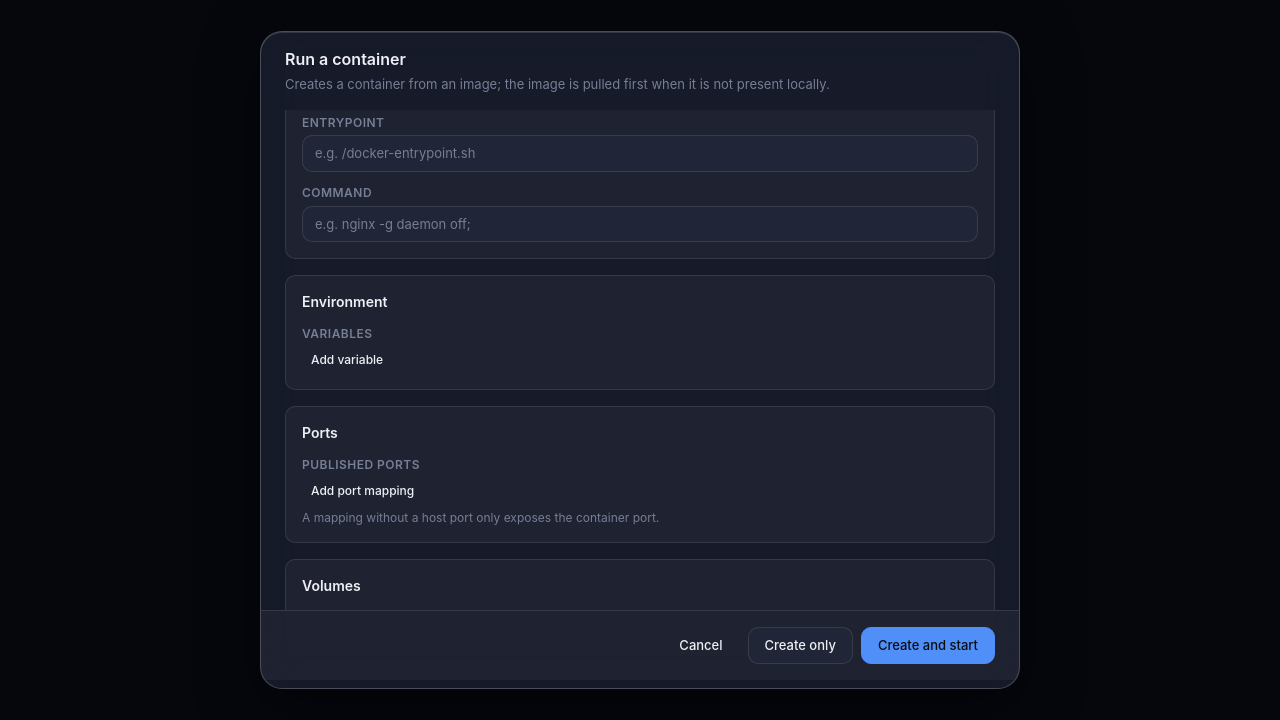
Test: ContainerCreateForm — the two key/value editors are told apart (containers/specs/container-create-form.md) › announces the environment rows and the label rows under names of their own
(page scrolled)
Click the button "Add variable".
click(347, 360)  # box [302,346,978,373]
(page scrolled)
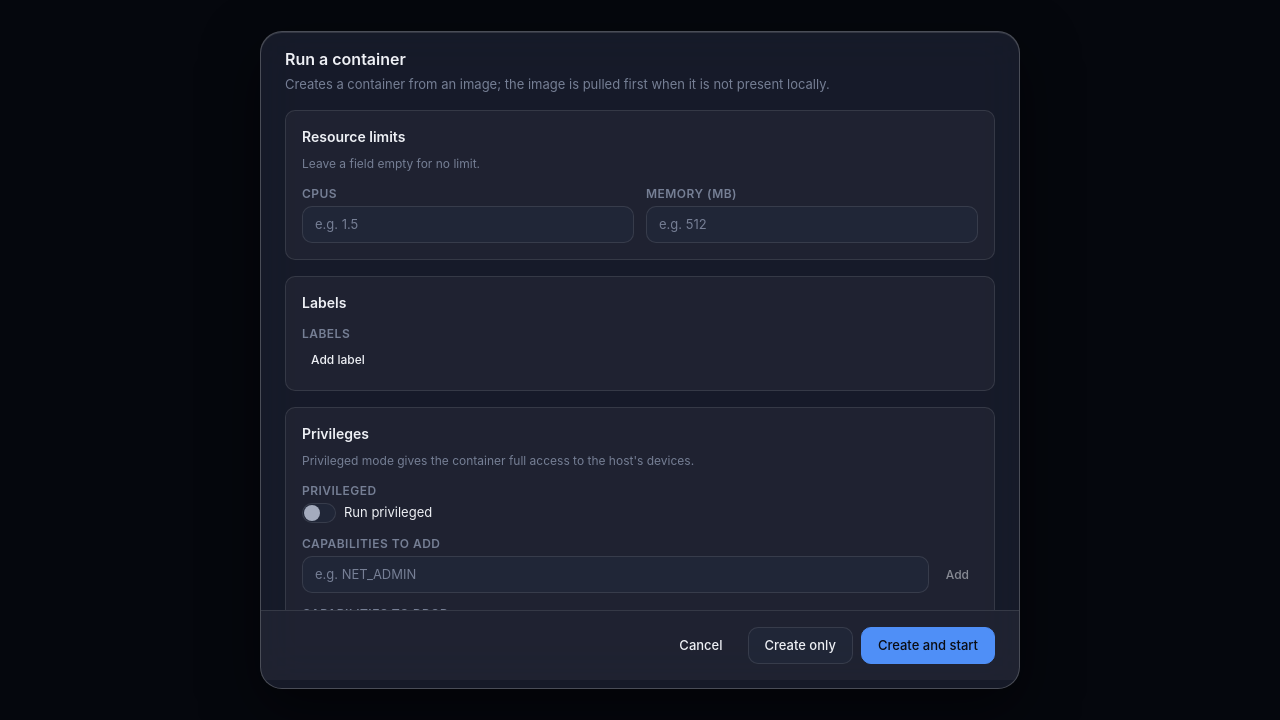
Click the button "Add label".
click(338, 360)  # box [302,346,978,374]
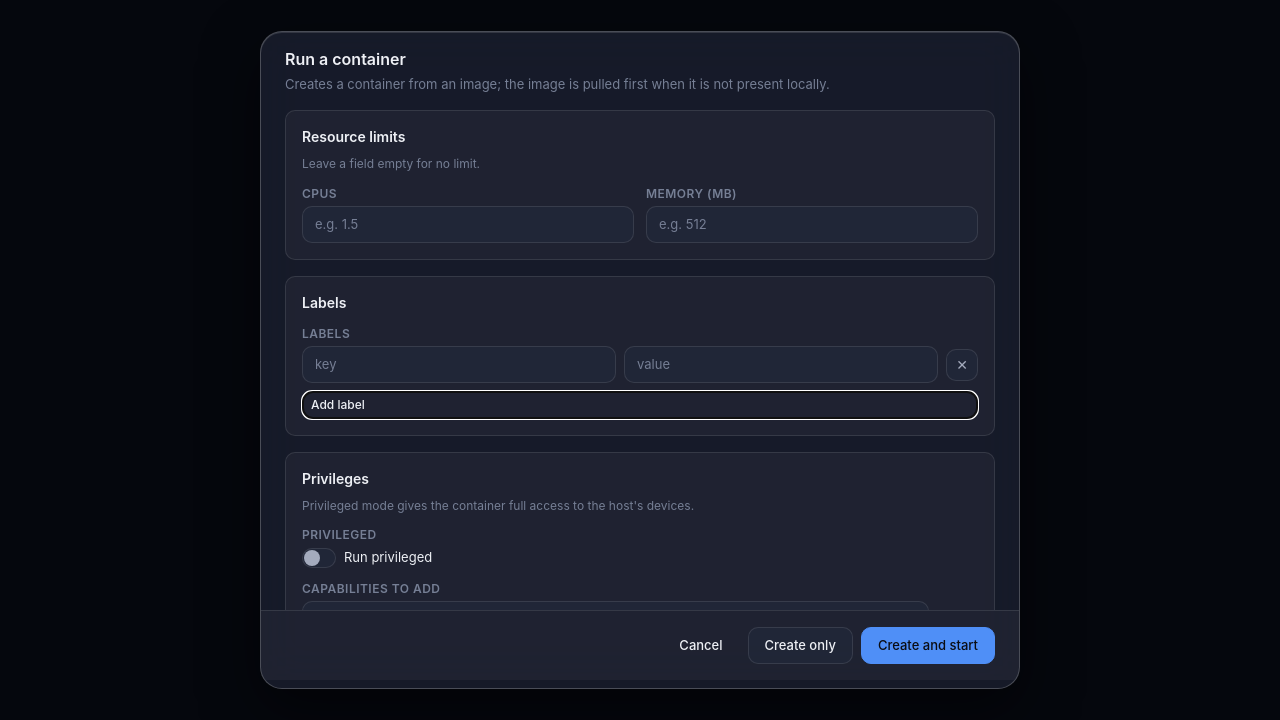
Expected: the number of fields named "Labels Key 1" is 1, [302,346,616,383]
Expected: the number of fields named "Labels Value 1" is 1, [624,346,938,383]
